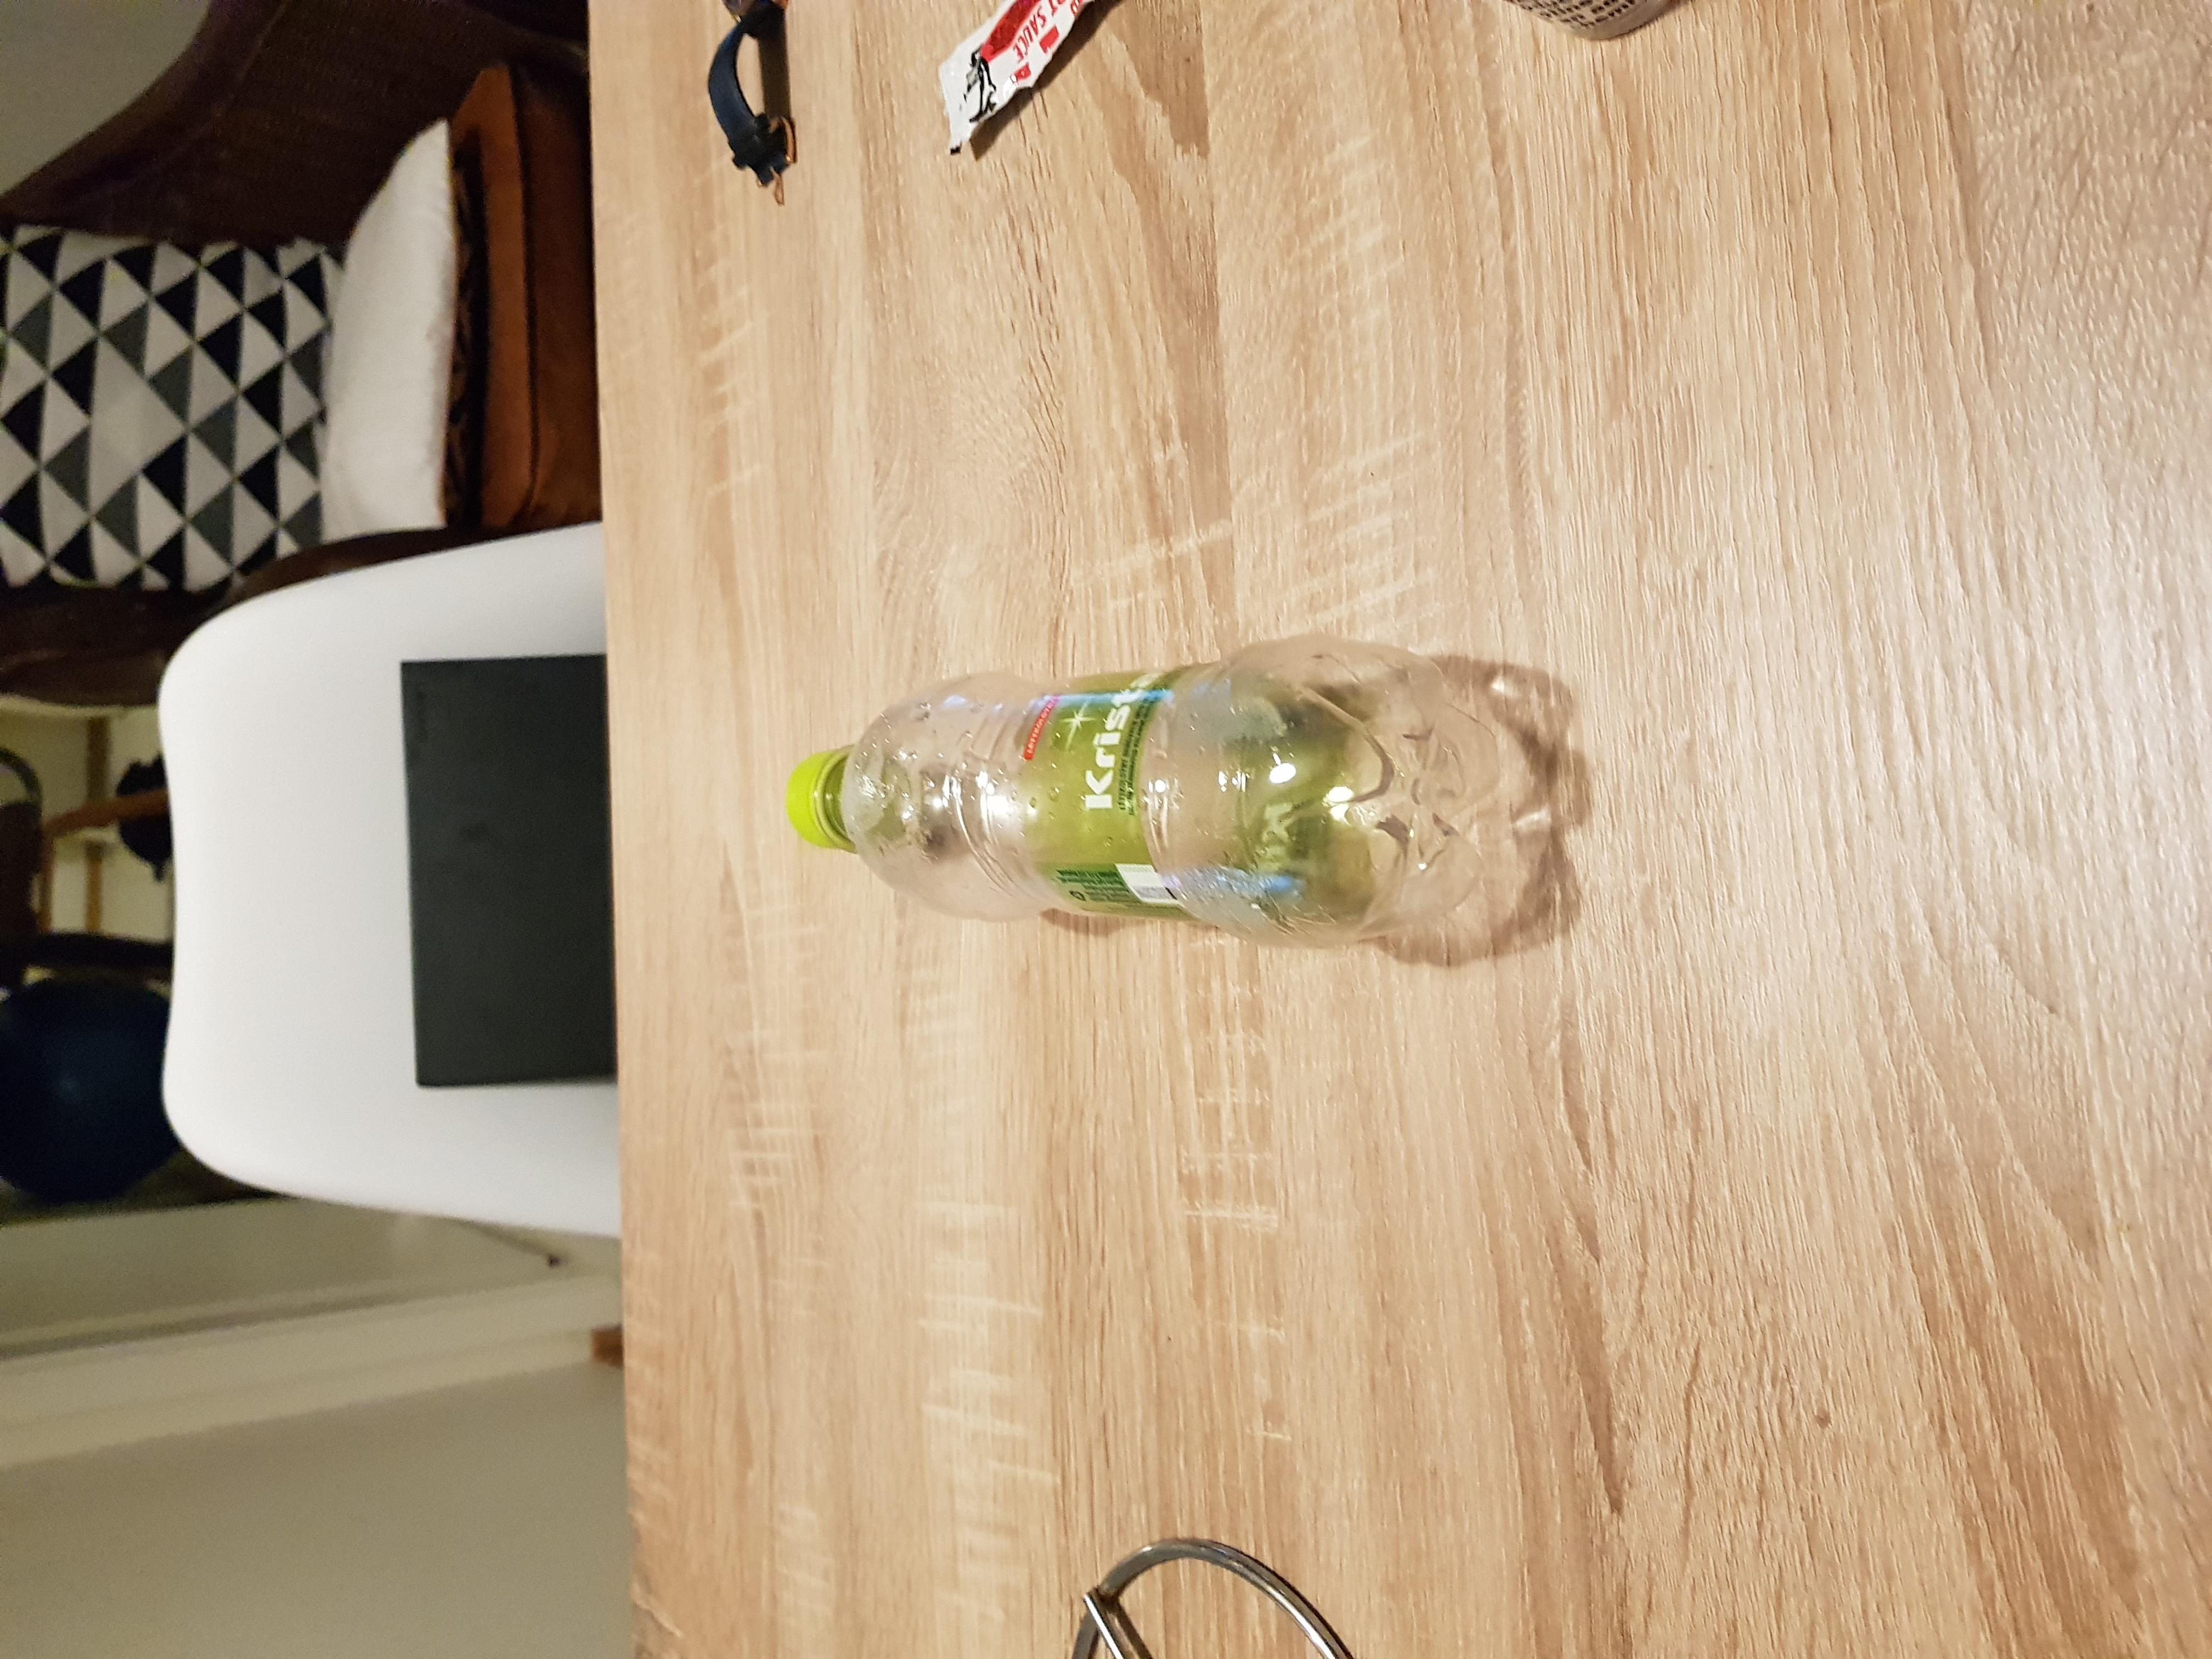Bottle: (791, 641, 1503, 936)
